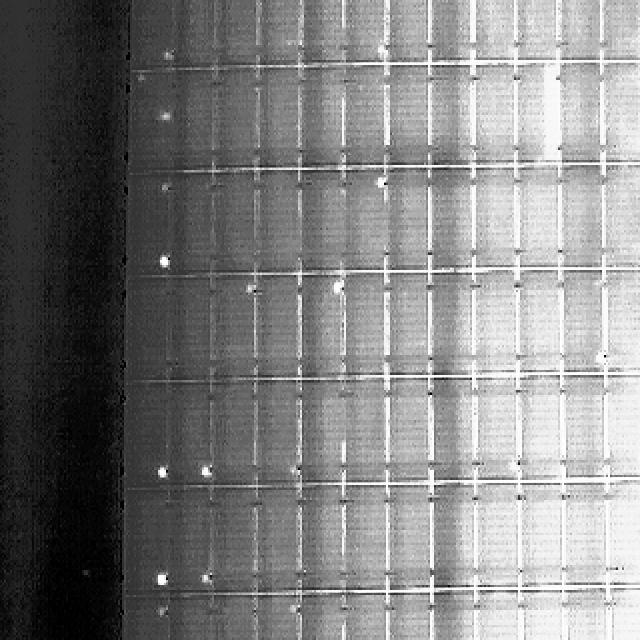Hotspots: (203, 566, 221, 590), (196, 463, 213, 487), (202, 464, 219, 486), (155, 566, 171, 589), (333, 277, 349, 300), (155, 252, 171, 274), (156, 464, 169, 486), (374, 172, 386, 192), (241, 280, 255, 297), (162, 47, 172, 65)
PV-modules: (300, 0, 388, 62), (124, 278, 172, 382), (209, 490, 256, 596), (166, 492, 213, 598), (170, 273, 214, 384), (521, 376, 567, 482), (474, 269, 520, 375), (520, 268, 566, 374), (209, 382, 255, 488), (562, 485, 608, 591), (427, 69, 475, 170), (170, 171, 218, 272), (256, 278, 302, 382), (428, 486, 474, 590), (256, 171, 302, 275), (297, 380, 343, 484), (256, 485, 301, 591), (257, 380, 302, 486), (389, 378, 434, 484), (167, 383, 212, 489), (300, 277, 346, 380), (297, 69, 343, 172), (217, 72, 263, 175), (474, 486, 519, 591), (560, 269, 604, 376), (558, 61, 604, 163), (301, 488, 346, 592), (388, 488, 433, 592), (343, 272, 388, 376), (429, 378, 474, 482), (427, 275, 472, 379), (558, 166, 603, 270), (388, 270, 432, 376), (427, 169, 472, 272), (517, 66, 562, 169), (344, 379, 388, 484), (522, 486, 566, 591), (122, 493, 166, 598), (386, 168, 431, 270), (476, 378, 521, 480), (344, 64, 389, 166), (562, 376, 606, 480), (128, 75, 175, 172), (471, 162, 514, 268), (123, 383, 166, 489), (350, 488, 392, 596), (302, 170, 346, 272), (474, 63, 518, 165), (519, 162, 562, 266), (213, 173, 257, 274), (211, 278, 254, 381), (344, 170, 388, 270), (126, 175, 170, 275), (389, 64, 431, 166), (259, 66, 301, 167), (175, 70, 216, 172), (602, 60, 640, 165), (604, 162, 640, 268), (606, 270, 640, 375), (606, 378, 640, 482), (608, 478, 640, 582), (215, 0, 260, 70), (132, 1, 176, 72), (428, 0, 475, 63), (298, 0, 344, 64), (258, 0, 303, 65), (386, 0, 431, 63), (343, 0, 388, 63), (555, 0, 601, 60), (517, 0, 562, 60), (473, 0, 517, 61), (476, 587, 522, 640), (428, 587, 474, 640), (177, 0, 214, 65), (522, 590, 568, 640), (602, 0, 640, 60), (162, 597, 214, 640), (296, 592, 342, 640), (388, 592, 432, 640), (564, 592, 608, 640), (604, 582, 640, 640), (254, 595, 300, 640), (350, 597, 394, 640), (216, 600, 260, 640), (124, 600, 166, 640)
